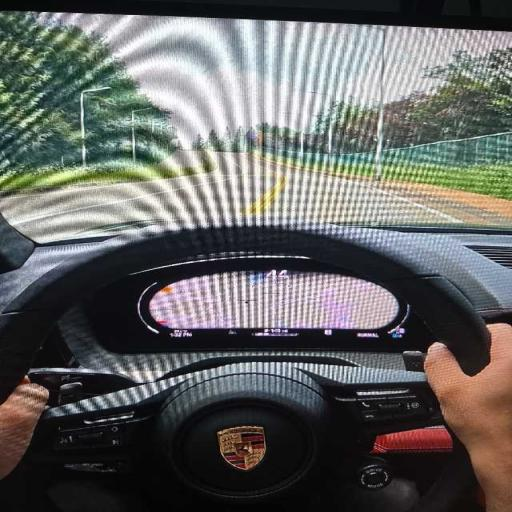car: (0, 4, 511, 511)
lane: (0, 154, 489, 241)
person: (425, 325, 511, 511), (0, 377, 48, 479)
